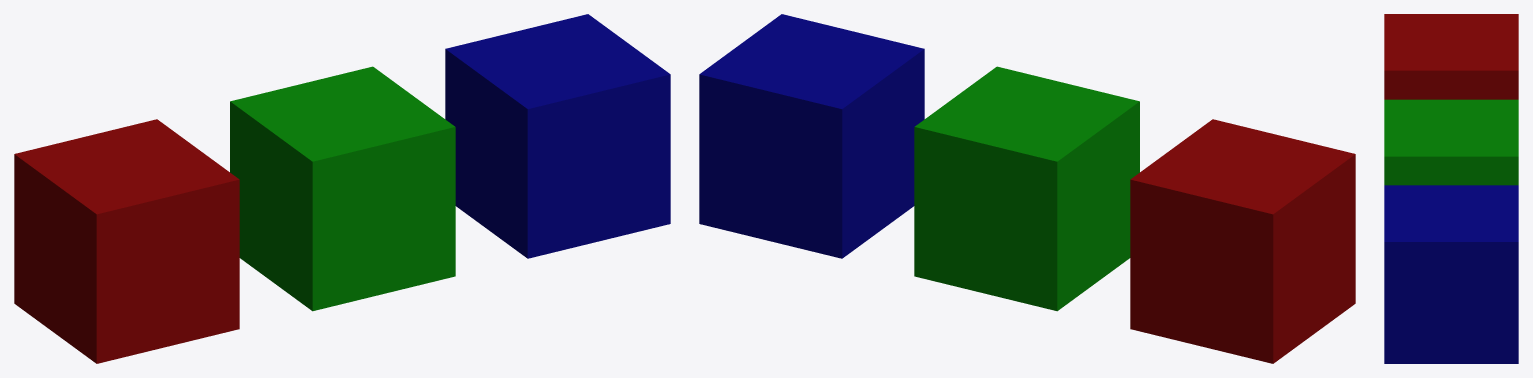
File: rgbcubes.obj
3 views of the same model, side by side, from view 1: azimuth 30°, elevation 25°; view 2: azimuth 150°, elevation 25°; view 3: azimuth 270°, elevation 25° (orthographic). The views are drawn at different scales.
Visible parts, largest first — view 1: Cube.002, Cube, Cube.001; view 2: Cube.002, Cube, Cube.001; view 3: Cube.001, Cube, Cube.002.
Boxes of the visible parts, x1=… form: Cube.002: x1=14, y1=119, x2=239, y2=363; Cube: x1=230, y1=66, x2=455, y2=311; Cube.001: x1=445, y1=14, x2=670, y2=258; Cube.002: x1=1130, y1=119, x2=1355, y2=363; Cube: x1=914, y1=66, x2=1139, y2=311; Cube.001: x1=699, y1=14, x2=924, y2=258; Cube.001: x1=1384, y1=185, x2=1518, y2=363; Cube: x1=1384, y1=99, x2=1518, y2=185; Cube.002: x1=1384, y1=14, x2=1518, y2=99.
Size of the model in its own units: 8.03 by 2 by 2.
